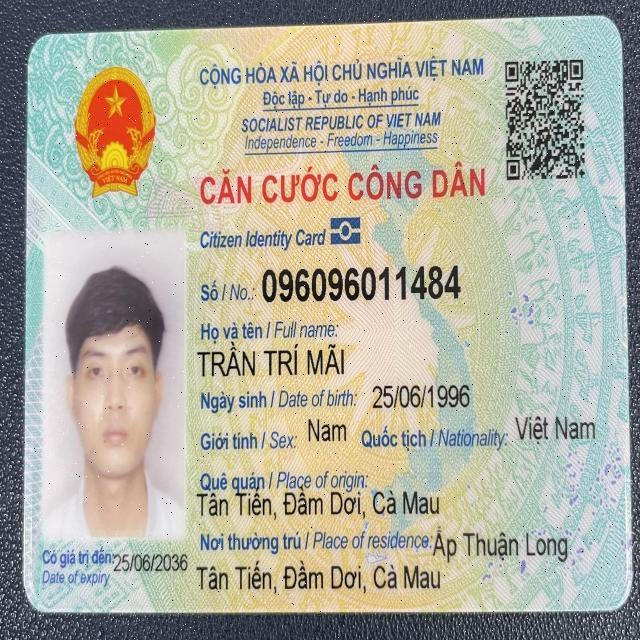current_place: (194, 557, 445, 594), (432, 524, 570, 565)
dob: (367, 376, 475, 417)
expire_date: (113, 545, 190, 582)
gender: (305, 414, 353, 451)
id: (257, 257, 467, 310)
name: (194, 342, 355, 380)
nationality: (511, 405, 602, 451)
origin_place: (192, 489, 446, 524)
